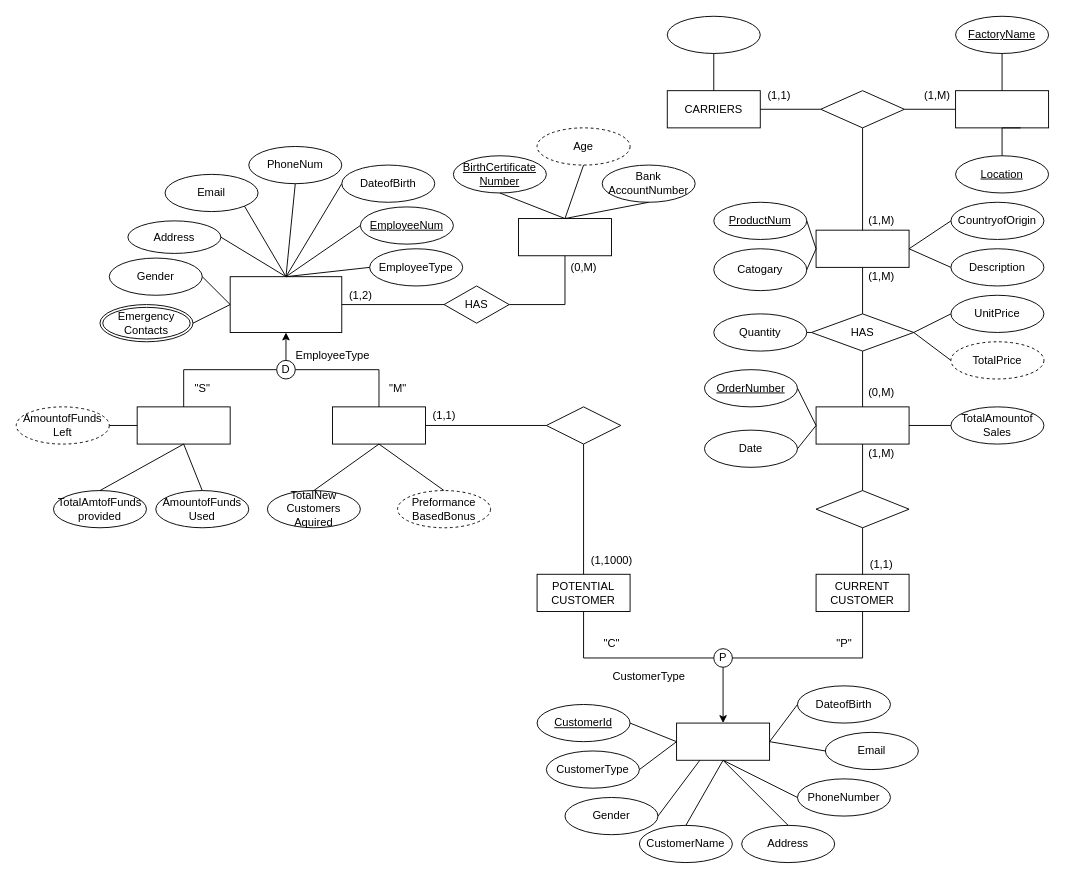
This 1065x879 diagram has some shape labels left out. The shapes that lost their labels are listed below. From the top down, each one's centre as x and y in pixels, then its label:
At point 713,34: "CarrierName".
At point 862,109: "TRANSPORT".
At point 1002,109: "FACTORIES".
At point 564,237: "CHILDREN".
At point 862,248: "PRODUCTS".
At point 285,304: "EMPLOYEES".
At point 183,425: "SALESPERSONS".
At point 378,425: "MARKETERS".
At point 583,425: "MANAGE".
At point 862,425: "ORDERS".
At point 862,509: "PLACE".
At point 723,741: "CUSTOMER".
